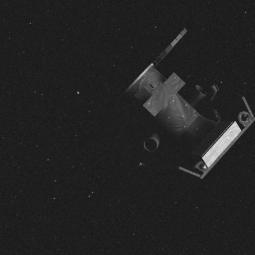cheops: (122, 27, 255, 181)
